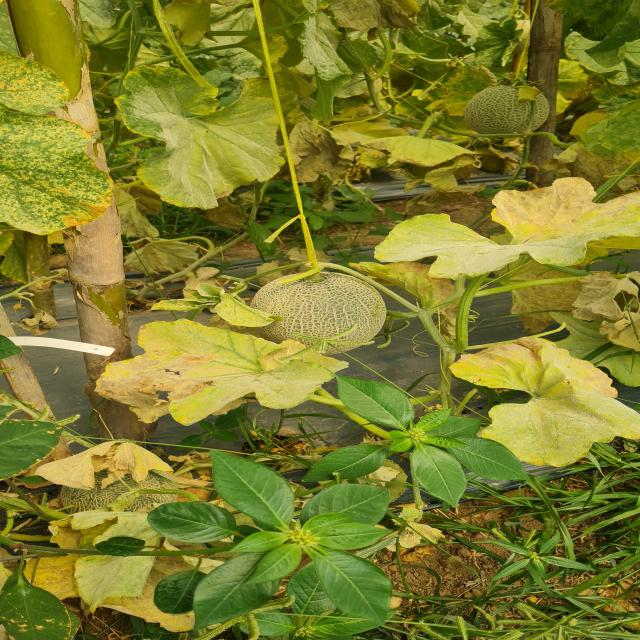melon: (247, 271, 387, 345)
